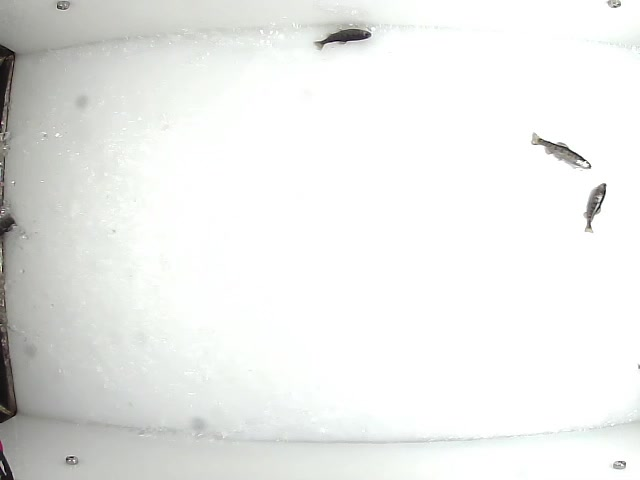fish: (525, 131, 593, 173), (311, 27, 374, 53), (581, 177, 609, 235)
